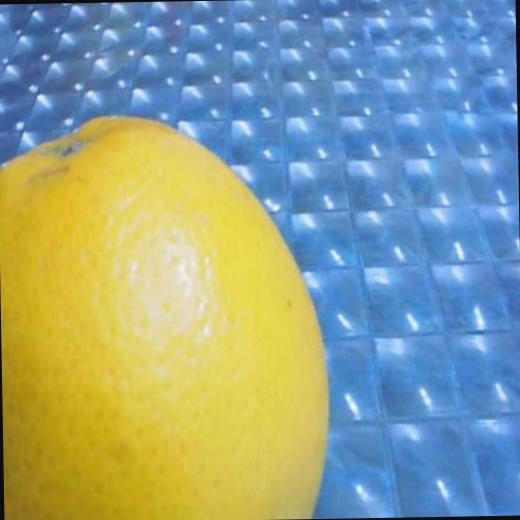Grape: (0, 111, 331, 520)
